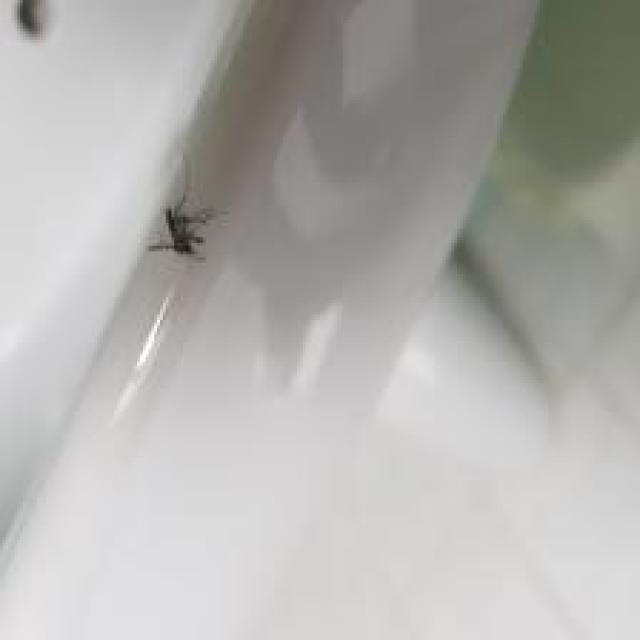Aedes albopictus: (147, 193, 222, 261)
